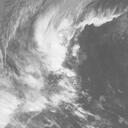cyclone: (33, 26, 71, 73)
